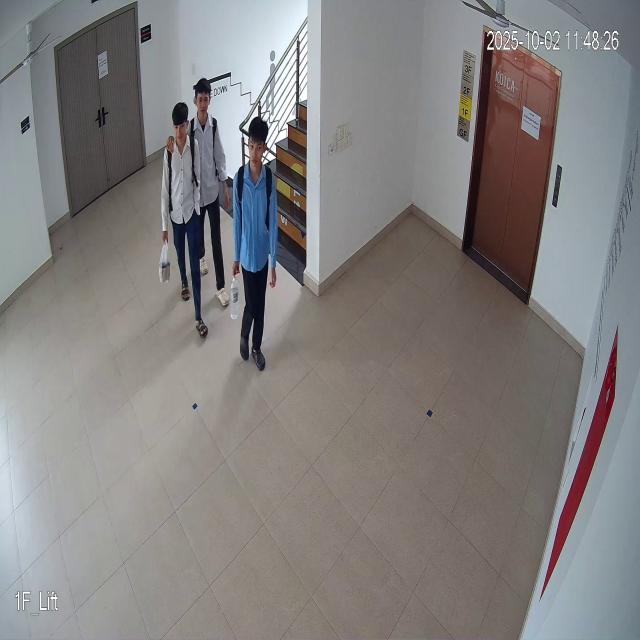face: (244, 116, 271, 174), (171, 97, 190, 148), (194, 75, 212, 122)
